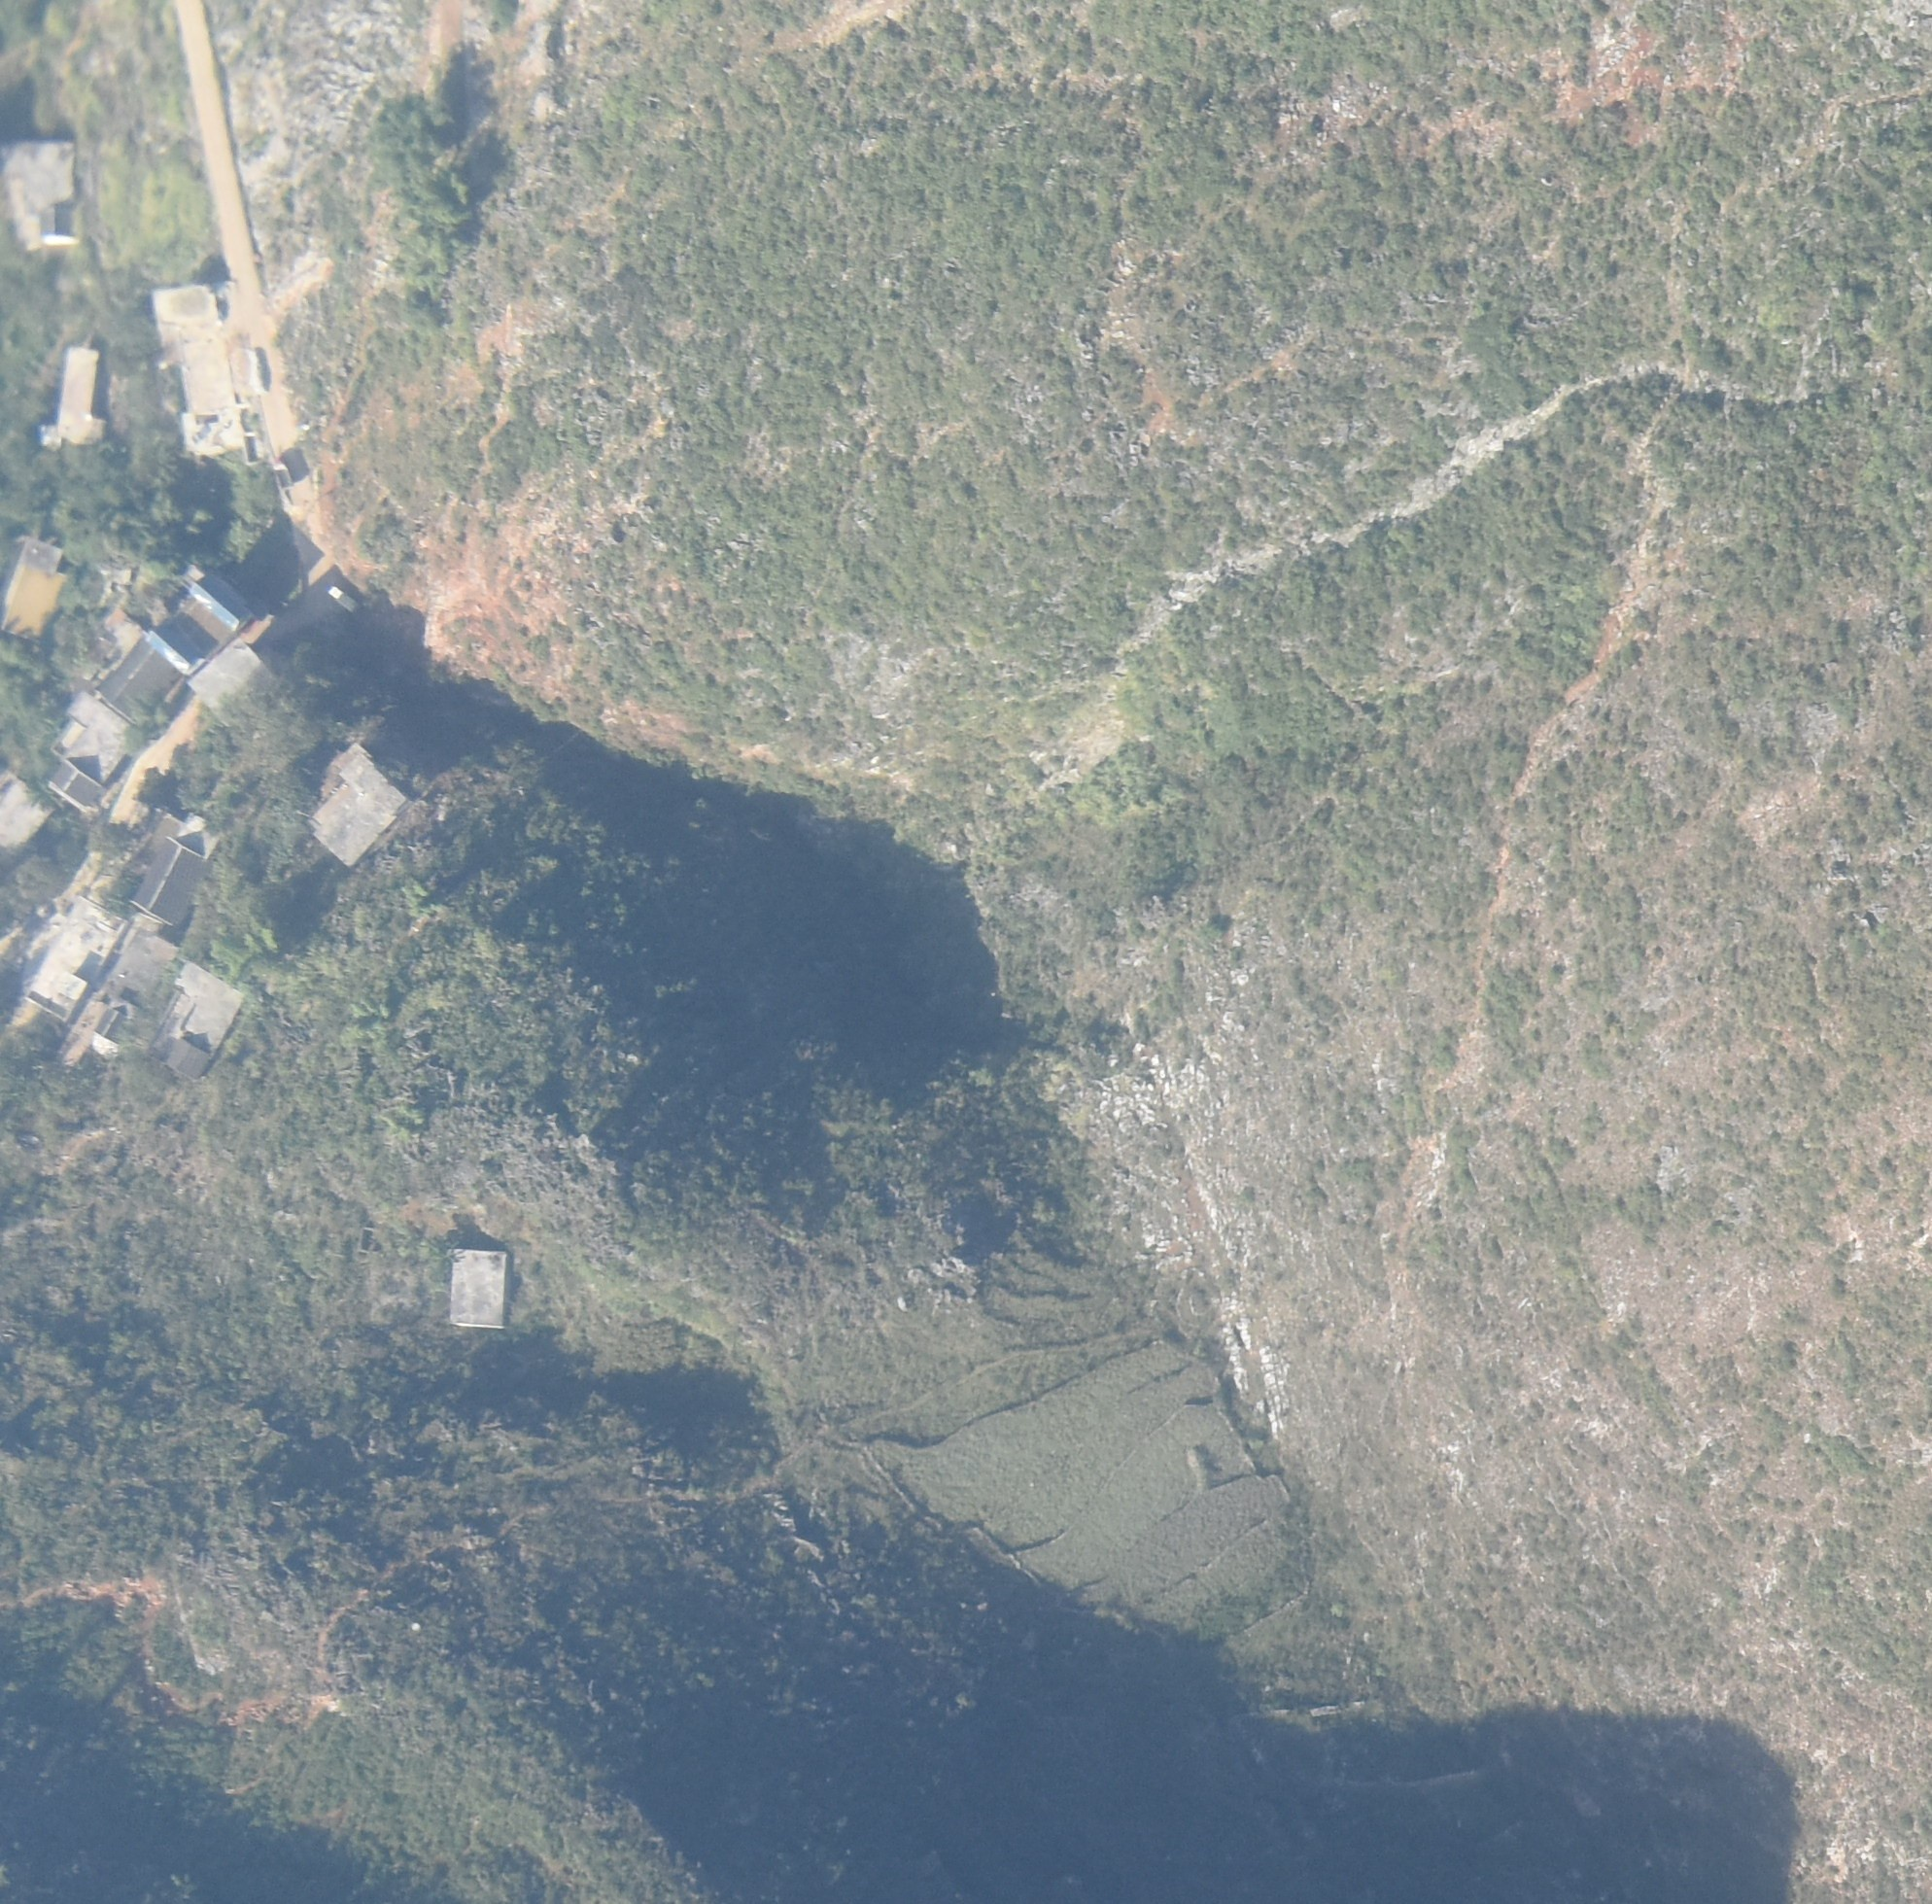building: (148, 283, 253, 459), (187, 639, 315, 775), (18, 895, 132, 1026), (308, 741, 409, 873), (88, 921, 186, 1056), (44, 688, 142, 814), (132, 811, 226, 925), (2, 133, 80, 266), (157, 961, 240, 1076), (99, 639, 190, 726), (35, 347, 110, 450), (6, 534, 66, 639), (452, 1247, 505, 1330), (190, 573, 258, 634), (141, 623, 202, 678)
vehicle: (326, 583, 359, 614)
